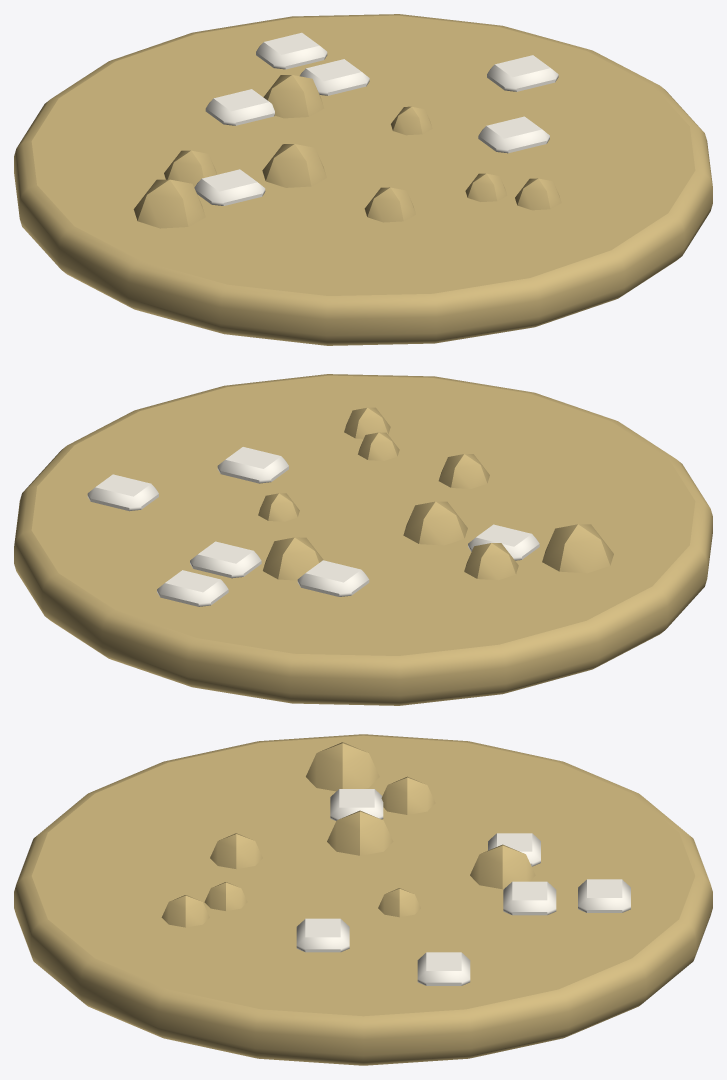
The model's file is kr_soup_onion.glb.
The picture shows the model from 3 angles, top to bottom: view 1: azimuth 30°, elevation 25°; view 2: azimuth 150°, elevation 25°; view 3: azimuth 270°, elevation 25°; orthographic projection.
Visible parts, largest first — view 1: vc_m0_r2, vc_m0_r4; view 2: vc_m0_r2, vc_m0_r4; view 3: vc_m0_r2, vc_m0_r4.
Part boxes in pixels (bbox=[...]): vc_m0_r2: bbox=[14, 14, 712, 345]; vc_m0_r4: bbox=[194, 32, 558, 205]; vc_m0_r2: bbox=[14, 374, 712, 705]; vc_m0_r4: bbox=[87, 447, 539, 606]; vc_m0_r2: bbox=[14, 734, 712, 1065]; vc_m0_r4: bbox=[296, 789, 630, 985].
Size of the model in its own units: 0.396 by 0.051 by 0.396.
